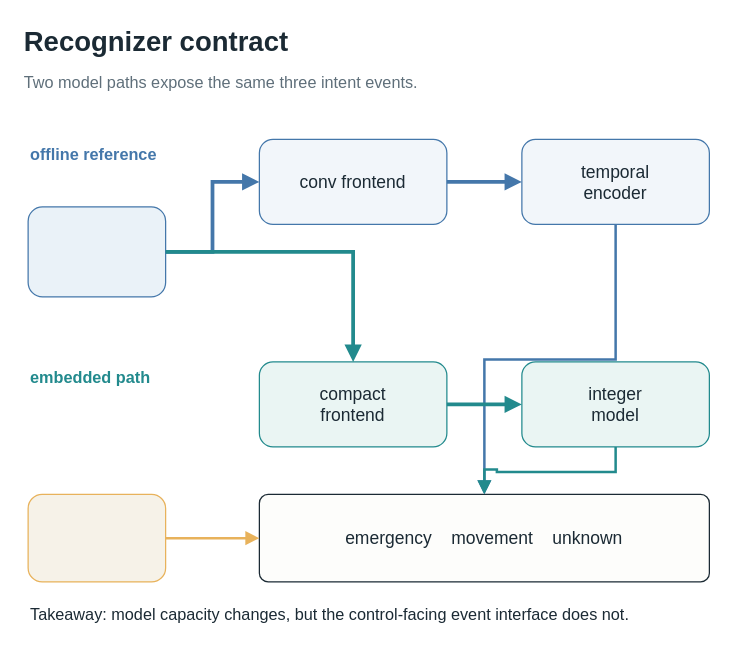
This 731x650 diagram has some shape labels left out. Here are the shapes that lost their labels. From the top down, the box of each, then its label:
(27, 206, 166, 297): log-mel window
(27, 493, 166, 582): intent contract
